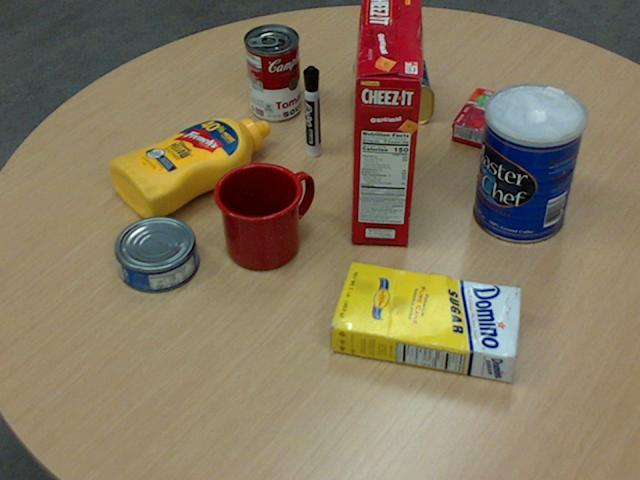cracker_box: (347, 0, 421, 245)
gelatin_box: (450, 86, 530, 153)
large_marker: (303, 65, 319, 157)
master_chef_can: (473, 83, 585, 244)
mug: (211, 162, 312, 270)
mustard_bottle: (107, 117, 269, 219)
potted_meat_can: (352, 53, 434, 124)
sugar_box: (328, 262, 522, 383)
tomato_soup_can: (244, 22, 300, 119)
tuna_fish_can: (113, 215, 197, 292)
